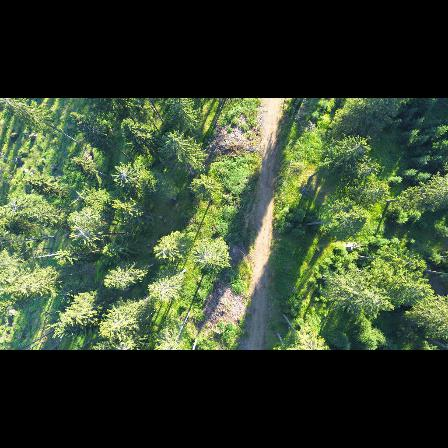Sick: (68, 223, 95, 244), (112, 164, 136, 186)
